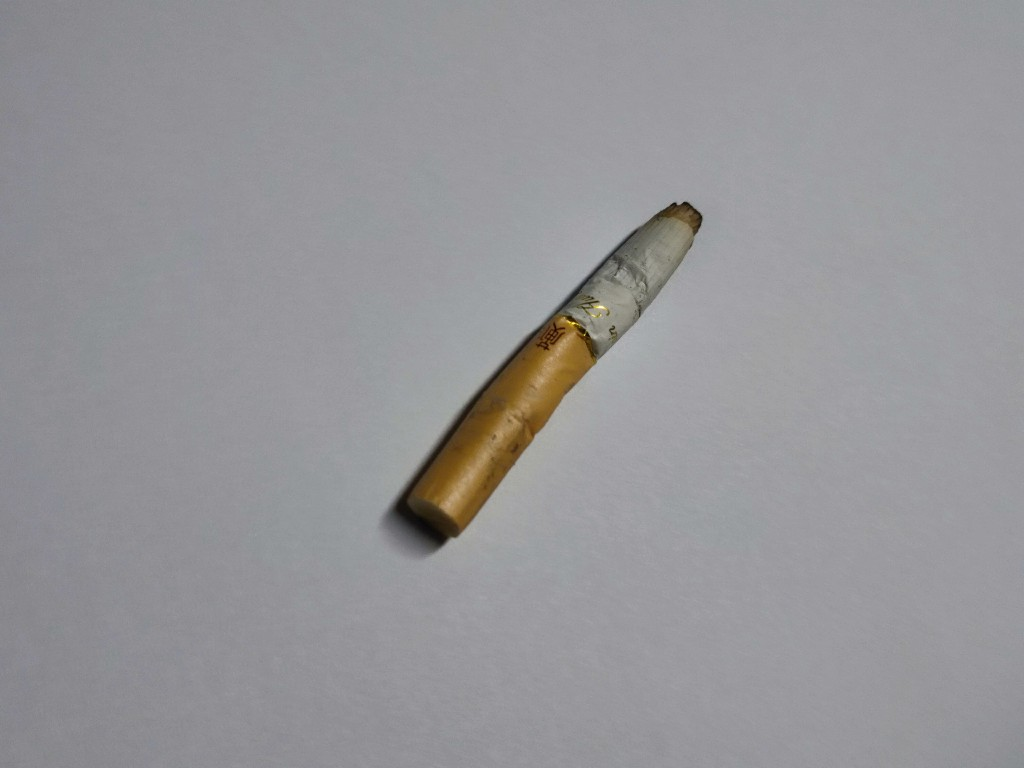cigarette: (400, 196, 706, 545)
